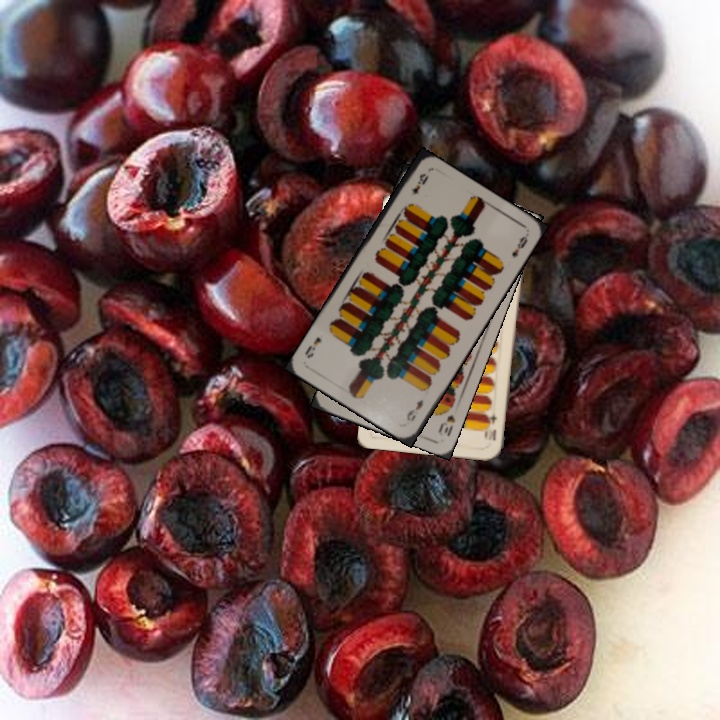E10: (483, 410, 499, 443)
E9: (402, 395, 426, 423), (407, 169, 431, 197)
S10: (434, 400, 458, 439)
